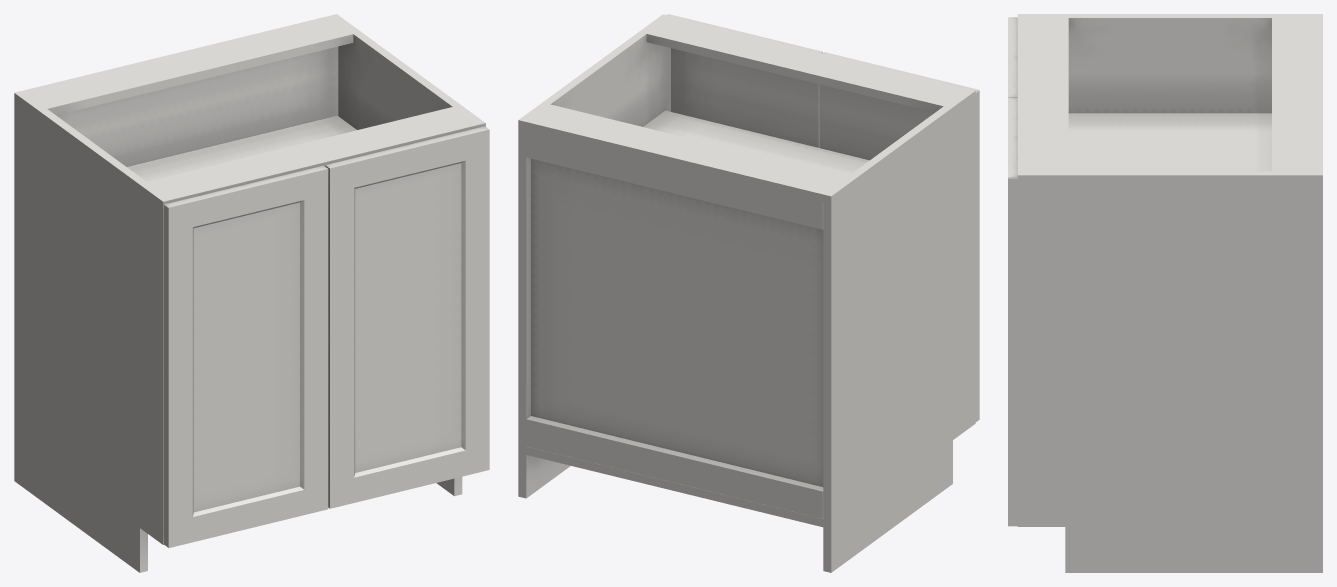
File: 2-door-base-doors-on.glb
The picture shows the model from 3 angles, left to right: view 1: azimuth 30°, elevation 25°; view 2: azimuth 150°, elevation 25°; view 3: azimuth 270°, elevation 25°; orthographic projection. The views are drawn at different scales.
Visible parts, largest first — view 1: part_3, part_0; view 2: part_0, part_3; view 3: part_0, part_3.
Boxes of the visible parts, x1,y1,x2,y2 form: part_3: (164, 126, 489, 547); part_0: (14, 14, 485, 572); part_0: (518, 14, 975, 572); part_3: (667, 14, 979, 422); part_0: (1017, 14, 1322, 572); part_3: (1008, 17, 1017, 526).
Bounding box in the file's own units: 0.762 × 0.8763 × 0.6286.
Materials: 2 (2 with a texture image).
